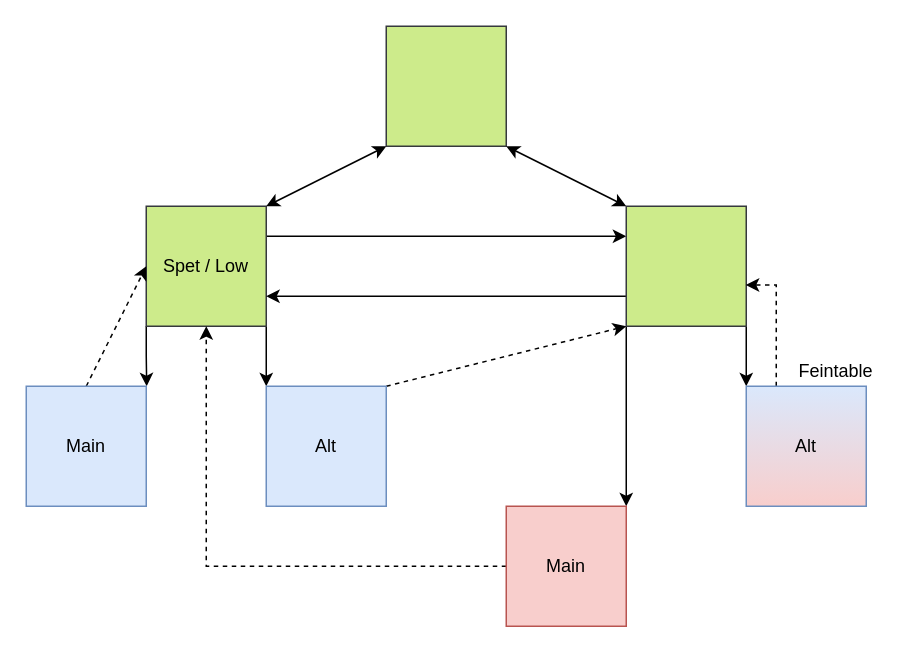
Image size: 899x653. Some labels were removed from this diagram. Each missing label, with the centre of its shape:
"Hang / High" goes at (685,265).
"Lax" goes at (445,85).
